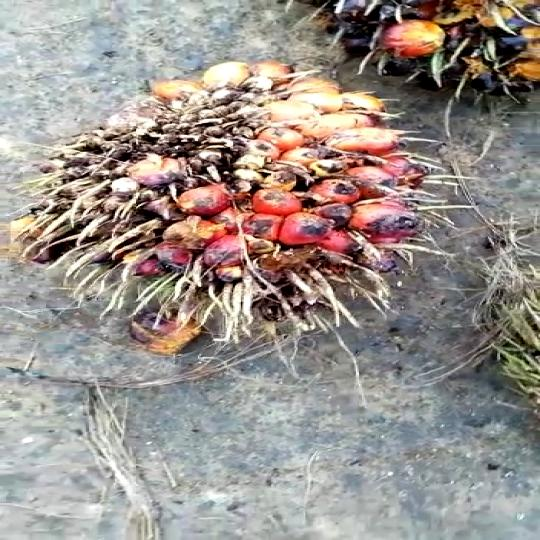masak: (1, 50, 488, 362)
